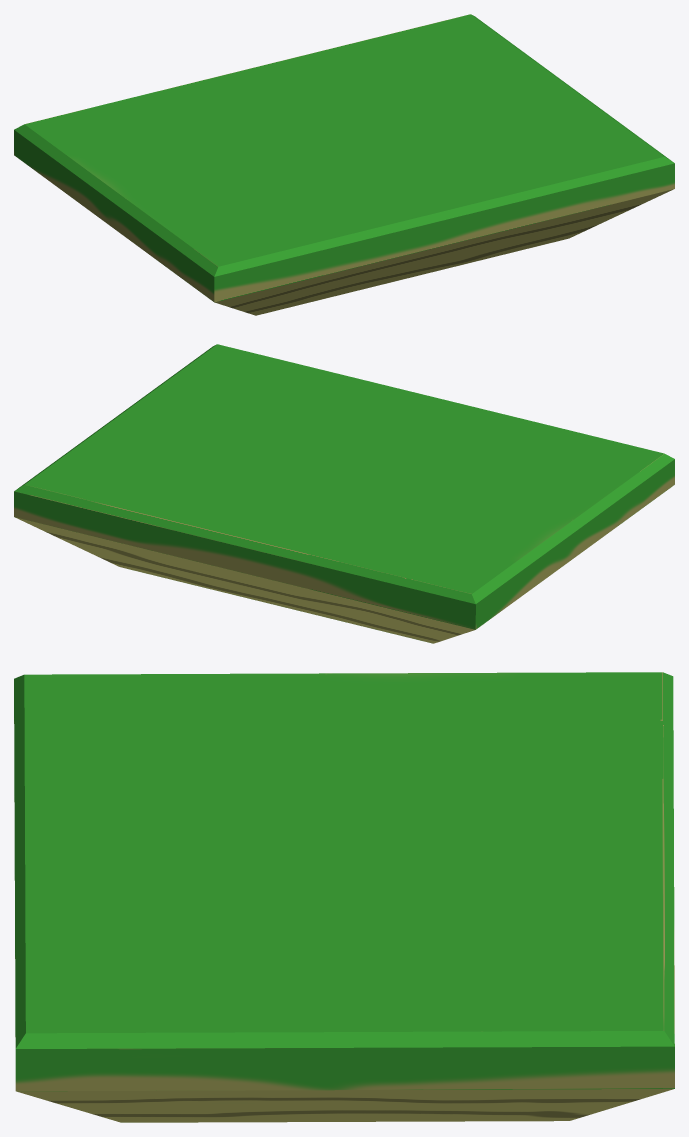
Rendered from plat4x3.obj.
The picture shows the model from 3 angles, top to bottom: view 1: azimuth 30°, elevation 25°; view 2: azimuth 150°, elevation 25°; view 3: azimuth 270°, elevation 25°; orthographic projection. The views are drawn at different scales.
Parts seen in each view (by area): view 1: Cube; view 2: Cube; view 3: Cube.
Part boxes in pixels (x1,y1,x2,y2): Cube: (14, 14, 674, 315); Cube: (14, 344, 674, 643); Cube: (14, 672, 674, 1122).
Bounding box in the file's own units: 8.01 × 1.99 × 6.02.
